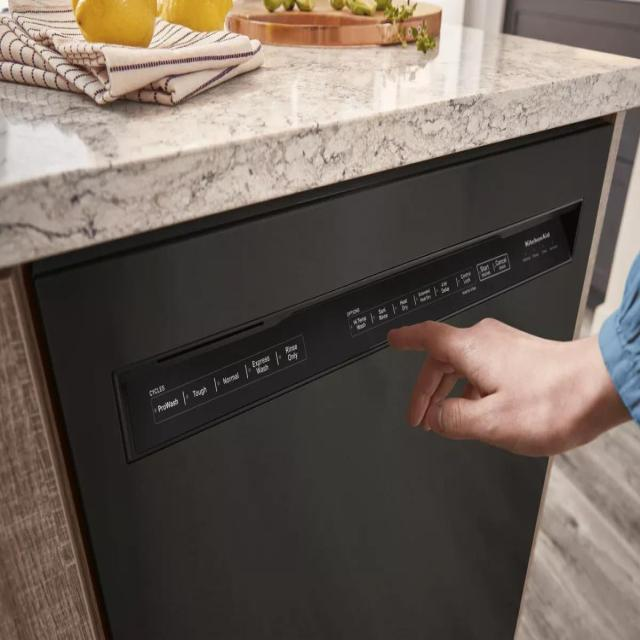dishwasher: (25, 101, 618, 640)
